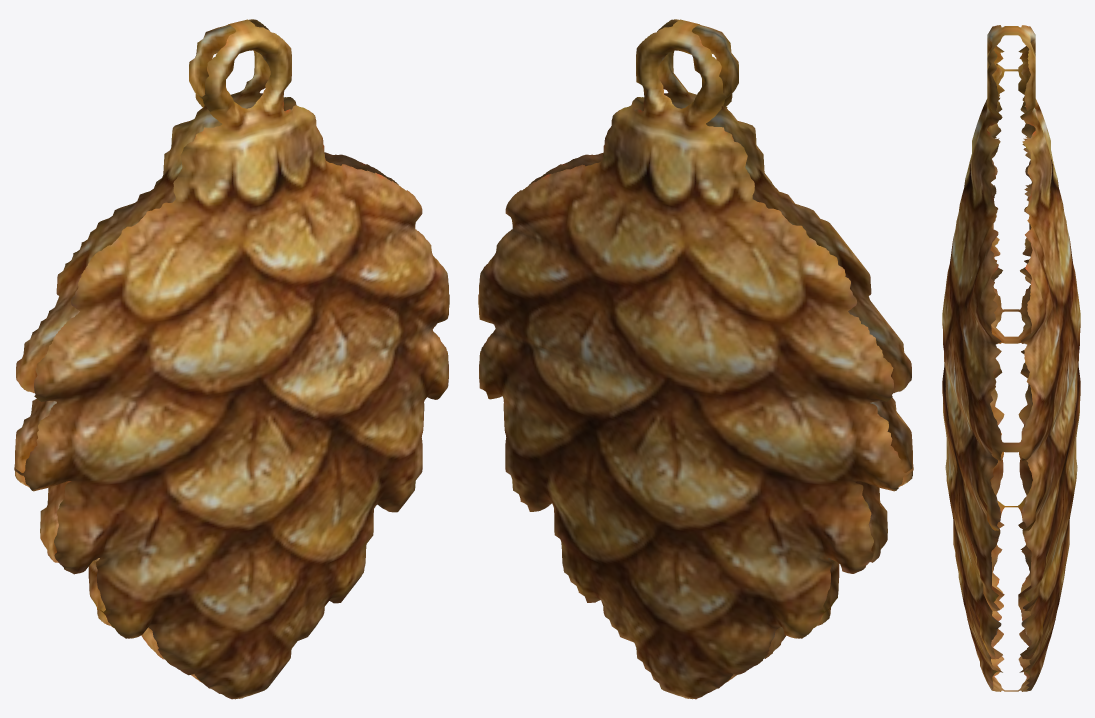
Rendered from Item_pinecone.glb.
3 views of the same model, side by side, from view 1: azimuth 30°, elevation 25°; view 2: azimuth 150°, elevation 25°; view 3: azimuth 270°, elevation 25° (orthographic).
Visible parts, largest first — view 1: Item_pinecone carving; view 2: Item_pinecone carving; view 3: Item_pinecone carving.
Boxes of the visible parts, x1,y1,x2,y2 form: Item_pinecone carving: (14, 19, 449, 699); Item_pinecone carving: (478, 19, 913, 699); Item_pinecone carving: (942, 25, 1080, 691).
Size of the model in its own units: 0.2166 by 0.3242 by 0.0615.
1 material, 1 textured.
